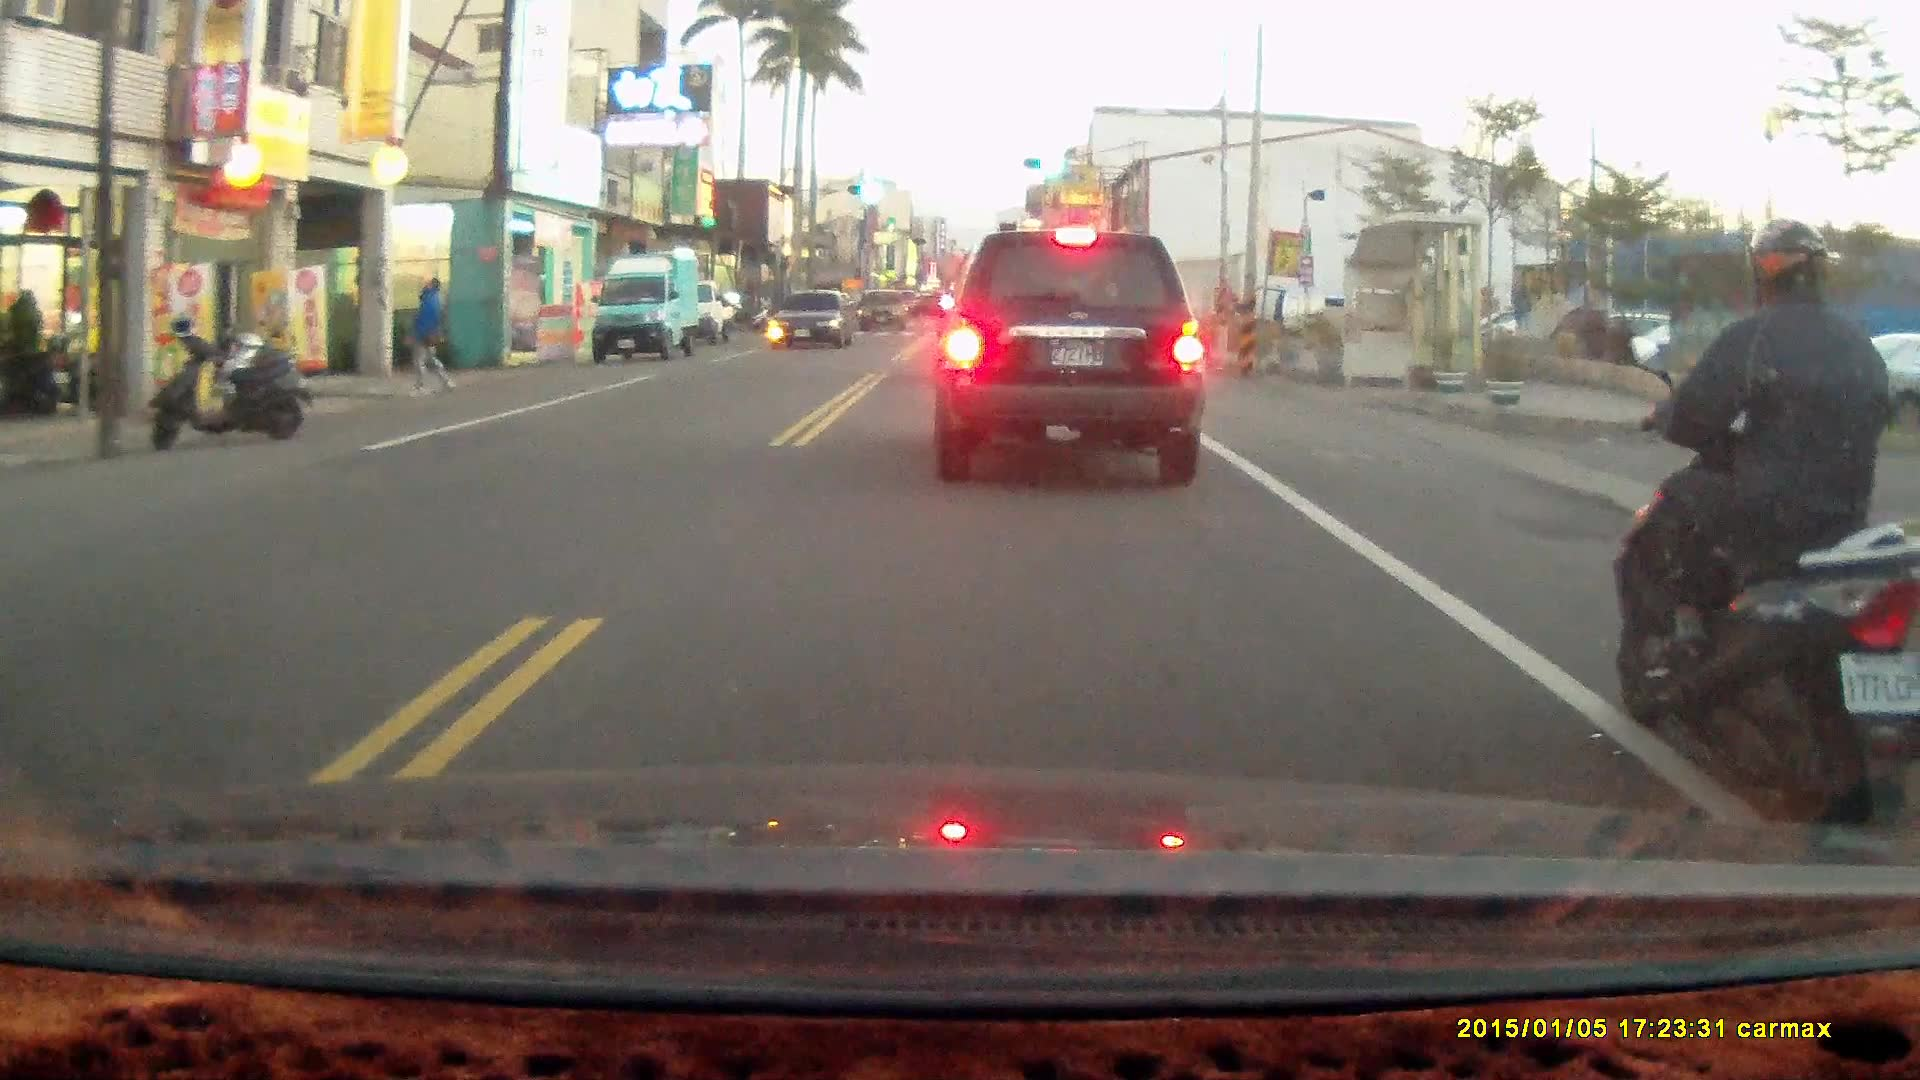pedestrian: (407, 274, 453, 401)
rider: (1614, 213, 1920, 836)
vehicle: (927, 229, 1209, 482), (585, 244, 705, 367), (769, 289, 861, 351), (857, 290, 910, 336)
